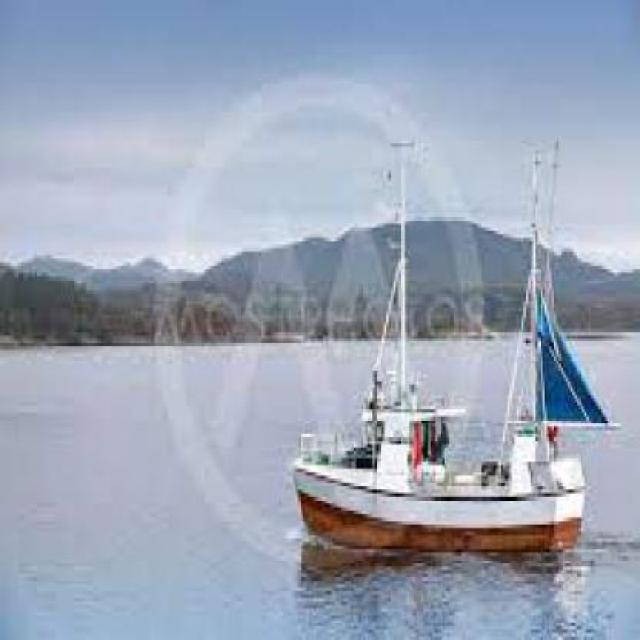fish-b: (287, 109, 630, 582)
